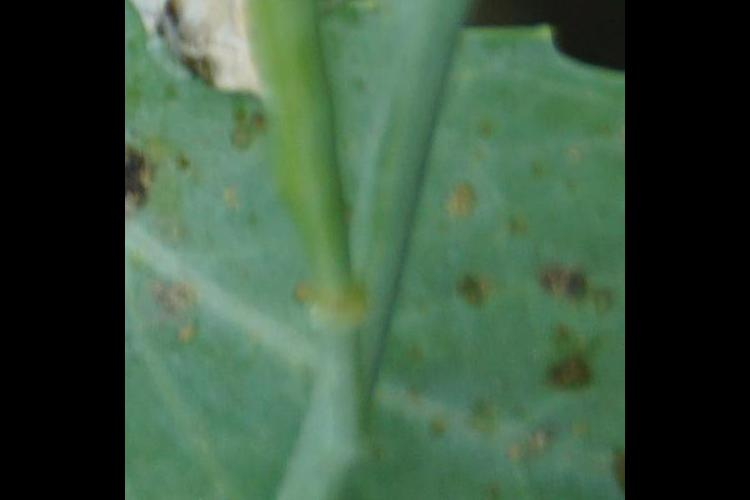pod: (220, 1, 390, 333)
